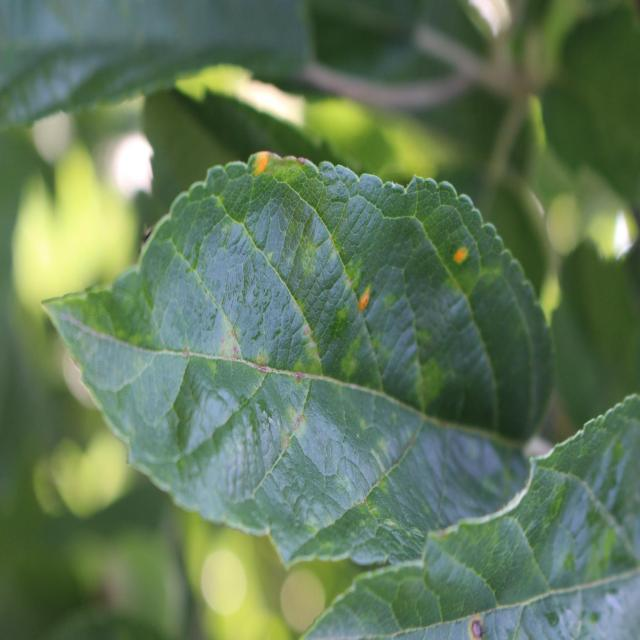Rust: (467, 606, 494, 640), (451, 240, 473, 278), (251, 146, 273, 178), (353, 285, 374, 316)
scab: (177, 326, 338, 438)
